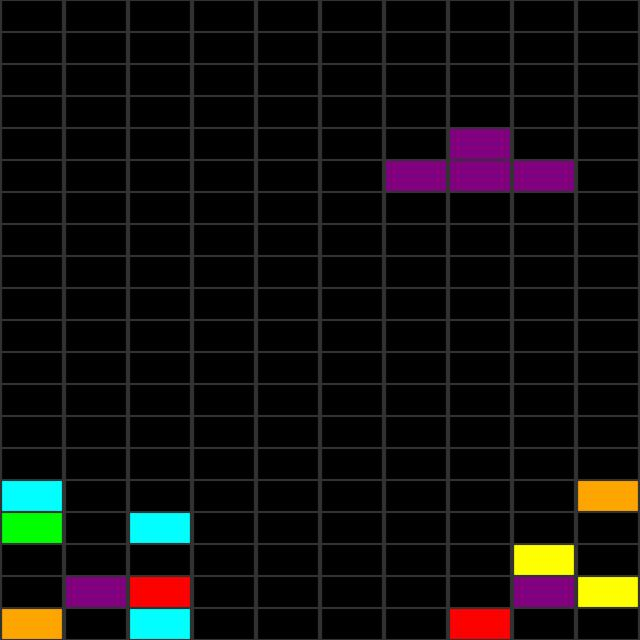Tetrimino_J: (386, 128, 574, 190)
